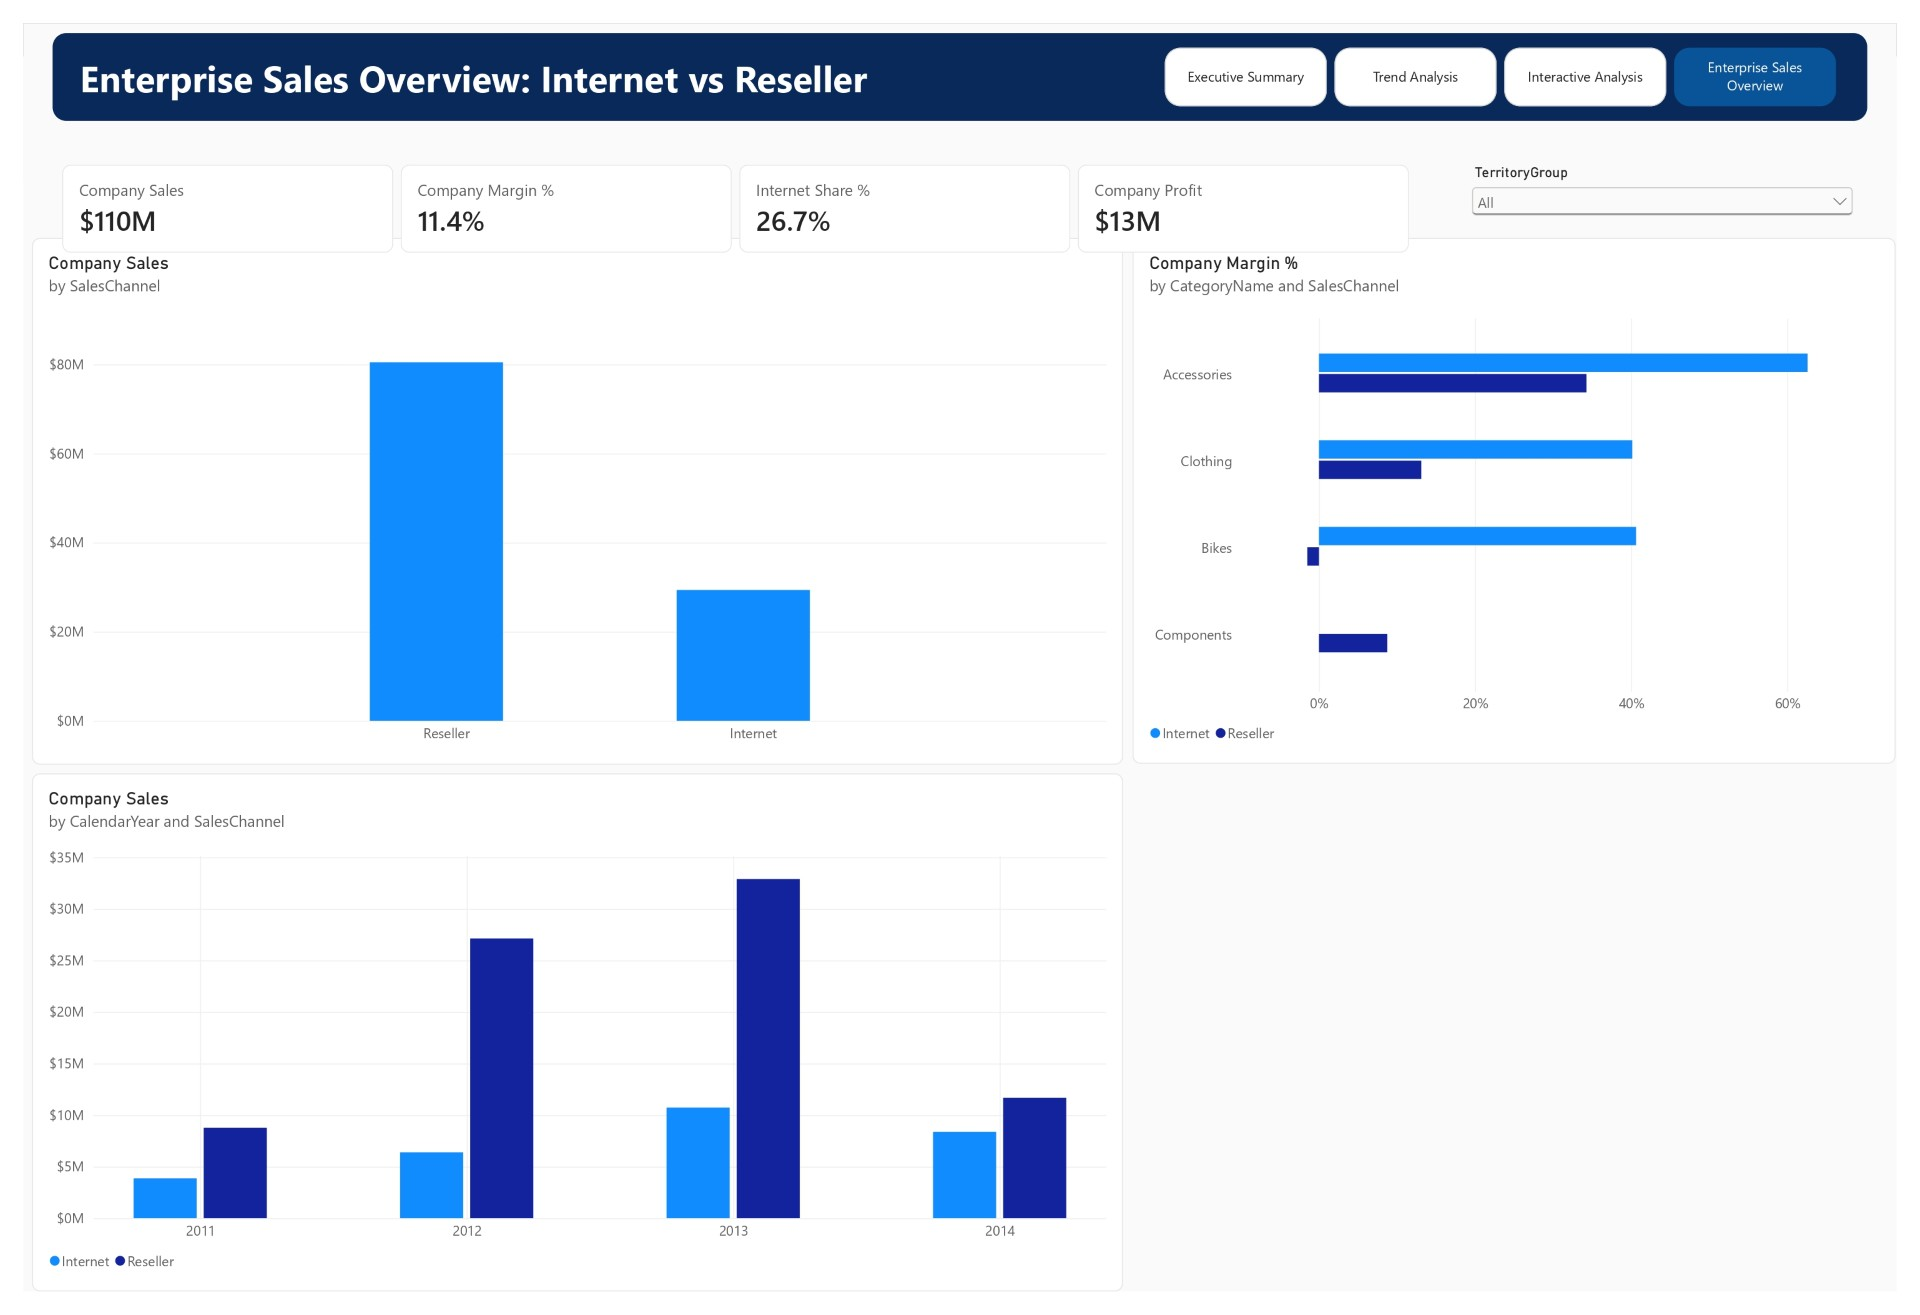

What the dashboard file says about the page in this screenshot:
{"tool":"powerbi","page":{"name":"Enterprise Sales Overview","canvas":[1920,1300],"ordinal":4},"visuals":[{"type":"clusteredColumnChart","fields":{"Category":["FactSales.SalesChannel"],"Y":["_Measures.Company Sales"]},"box":[9.4,220.5,1117.5,539.4],"z":0},{"type":"clusteredColumnChart","fields":{"Category":["DimDate.CalendarYear"],"Series":["FactSales.SalesChannel"],"Y":["_Measures.Company Sales"]},"box":[9,769.5,1118,531],"z":1000},{"type":"clusteredBarChart","fields":{"Category":["DimProduct.CategoryName"],"Series":["FactSales.SalesChannel"],"Y":["_Measures.Company Margin %"]},"box":[1137,220.5,782,539],"z":2000},{"type":"slicer","fields":{"Values":["DimTerritory.TerritoryGroup"]},"box":[1480,145,400,90],"z":3000},{"type":"shape","box":[30,10,1860,90],"z":4000},{"type":"pageNavigator","box":[1170,25,690,60],"z":5000},{"type":"cardVisual","fields":{"Data":["_Measures.Company Sales","_Measures.Company Margin %","_Measures.Internet Share %","_Measures.Company Profit"]},"box":[40,145,1380,90],"z":6000}]}

Visuals, with their boxes in screenshot pixels (x1, y1, x2, y2), scaled from the page's 1920x1300 canvas onto the 1920x1315 screenshot:
clusteredColumnChart - FactSales.SalesChannel x _Measures.Company Sales: <region>9, 223, 1127, 769</region>
clusteredColumnChart - DimDate.CalendarYear x FactSales.SalesChannel: <region>9, 778, 1127, 1314</region>
clusteredBarChart - DimProduct.CategoryName x FactSales.SalesChannel: <region>1137, 223, 1919, 768</region>
slicer - DimTerritory.TerritoryGroup: <region>1480, 147, 1880, 238</region>
shape: <region>30, 10, 1890, 101</region>
pageNavigator: <region>1170, 25, 1860, 86</region>
cardVisual - _Measures.Company Sales x _Measures.Company Margin %: <region>40, 147, 1420, 238</region>
